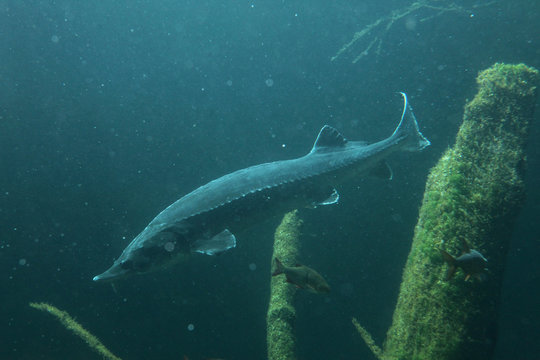Sturgeon: (58, 144, 449, 283)
